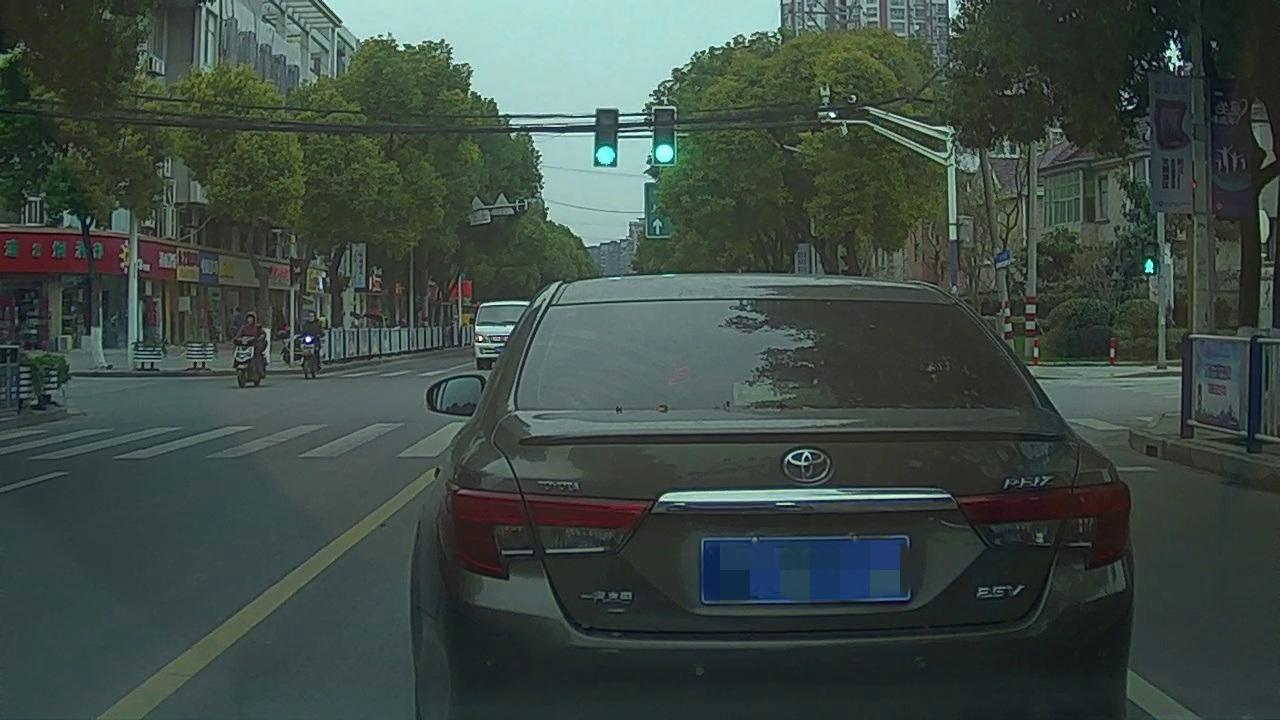traffic_light: (597, 107, 618, 164), (656, 106, 676, 164)
